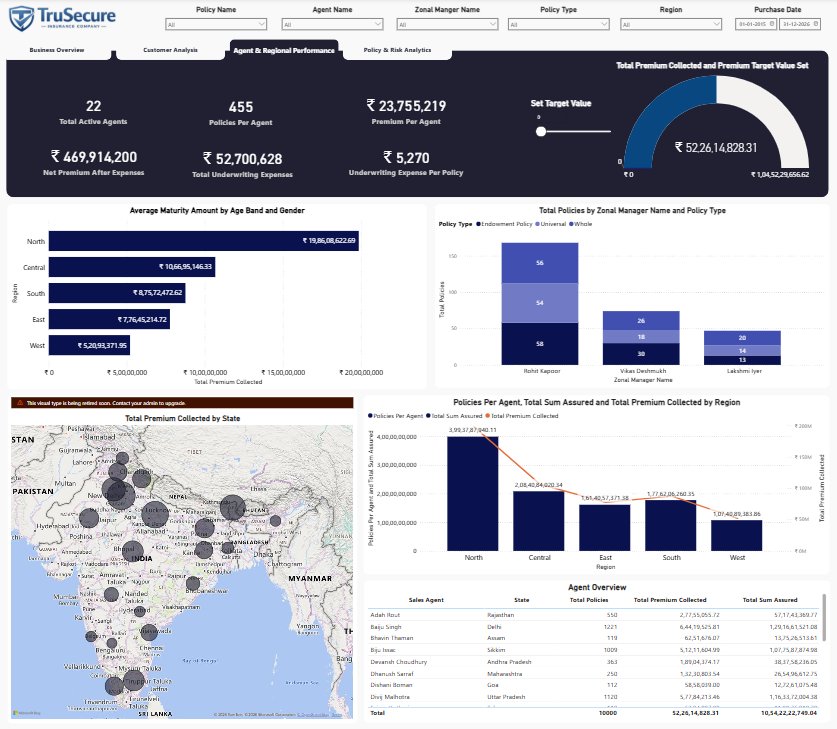

Layout of this report page (visuals, bound fields, positions):
{"tool":"powerbi","page":{"name":"Agent & Regional Performance","canvas":[1940,1700],"ordinal":2},"visuals":[{"type":"shape","box":[15.6,120.3,1906,340],"z":0},{"type":"columnChart","fields":{"Category":["DM Zonal_Manager.Zonal Manager Name"],"Y":["Measure.Total Policies"],"Series":["DM Policy_Type.Policy Type"]},"box":[1007.8,477.5,914.3,424.7],"z":1000},{"type":"map","fields":{"Category":["DM Insurance_Agent_Table.State"],"Size":["Measure.Total Premium Collected"]},"box":[16.3,920.4,810.7,759.9],"z":2000},{"type":"advanceCardE03760C5AB684758B56AA29F9E6C257B","fields":{"mainMeasure":["Measure 2.Net Premium After Expenses"]},"box":[62,319.7,365.8,119.3],"z":3000},{"type":"advanceCardE03760C5AB684758B56AA29F9E6C257B","fields":{"mainMeasure":["Measure 2.Underwriting Expense Per Policy"]},"box":[786.3,319,365.7,119.9],"z":4000},{"type":"advanceCardE03760C5AB684758B56AA29F9E6C257B","fields":{"mainMeasure":["Measure 2.Policies Per Agent"]},"box":[405.6,202,364.2,119.3],"z":5000},{"type":"advanceCardE03760C5AB684758B56AA29F9E6C257B","fields":{"mainMeasure":["Measure 2.Total Active Agents"]},"box":[63.6,200.4,364.2,119.3],"z":6000},{"type":"slicer","title":"Zonal Manger Name","fields":{"Values":["DM Zonal_Manager.Zonal Manager Name","FCT Insurance_Policy_Table.Policy Status"]},"box":[908.9,18,255,80.1],"z":7000},{"type":"slicer","title":"Region","fields":{"Values":["DM Regional_Manager.Region"]},"box":[1427,18,255,80.1],"z":8000},{"type":"slicer","title":"Purchase Date","fields":{"Values":["Calendar.Date"]},"box":[1693.1,17.8,222,70],"z":9000},{"type":"slicer","title":"Policy Type","fields":{"Values":["FCT Insurance_Policy_Table.Tenure Band"]},"box":[1167.1,18,255,80.1],"z":10000},{"type":"pageNavigator","box":[5.7,96.6,1045.4,48.3],"z":11000},{"type":"image","box":[0,0,288,88],"z":12000},{"type":"tableEx","title":"Agent Overview","fields":{"Values":["DM Insurance_Agent_Table.Sales Agent","DM Insurance_Agent_Table.State","Measure.Total Policies","Measure.Total Premium Collected","Measure.Total Sum Assured"]},"box":[843.2,1351.2,1080.9,329.2],"z":13000},{"type":"clusteredBarChart","title":"Average Maturity Amount by Age Band and Gender","fields":{"Category":["DM Regional_Manager.Region"],"Y":["Measure.Total Premium Collected"]},"box":[16.3,477.5,971.2,428.7],"z":14000},{"type":"slicer","title":"Policy Name","fields":{"Values":["DM Policy_Protection_Plan.Policy Name"]},"box":[372.7,18,255,80.1],"z":15000},{"type":"slicer","title":"Agent Name","fields":{"Values":["DM Insurance_Agent_Table.Sales Agent"]},"box":[642.4,18,255,80.1],"z":16000},{"type":"advanceCardE03760C5AB684758B56AA29F9E6C257B","fields":{"mainMeasure":["Measure 2.Total Underwriting Expenses"]},"box":[406.4,321,365.7,119.9],"z":17000},{"type":"advanceCardE03760C5AB684758B56AA29F9E6C257B","fields":{"mainMeasure":["Measure 2.Premium Per Agent"]},"box":[786.3,201.2,365.7,119.9],"z":18000},{"type":"gauge","fields":{"Y":["Measure.Total Premium Collected"]},"box":[1322.7,176.8,436.8,264.1],"z":19000},{"type":"lineStackedColumnComboChart","fields":{"Y":["Measure 2.Policies Per Agent","Measure.Total Sum Assured"],"Category":["DM Regional_Manager.Region"],"Y2":["Measure.Total Premium Collected"]},"box":[843.2,920.4,1078.9,414.5],"z":20000}]}

Visuals, with their boxes in screenshot pixels (x1, y1, x2, y2), scaled from the page's 1940x1700 canvas onto the 837x729 screenshot:
shape: x1=7 y1=52 x2=829 y2=197
columnChart - DM Zonal_Manager.Zonal Manager Name x Measure.Total Policies: x1=435 y1=205 x2=829 y2=387
map - DM Insurance_Agent_Table.State x Measure.Total Premium Collected: x1=7 y1=395 x2=357 y2=721
advanceCardE03760C5AB684758B56AA29F9E6C257B - Measure 2.Net Premium After Expenses: x1=27 y1=137 x2=185 y2=188
advanceCardE03760C5AB684758B56AA29F9E6C257B - Measure 2.Underwriting Expense Per Policy: x1=339 y1=137 x2=497 y2=188
advanceCardE03760C5AB684758B56AA29F9E6C257B - Measure 2.Policies Per Agent: x1=175 y1=87 x2=332 y2=138
advanceCardE03760C5AB684758B56AA29F9E6C257B - Measure 2.Total Active Agents: x1=27 y1=86 x2=185 y2=137
"Zonal Manger Name" slicer: x1=392 y1=8 x2=502 y2=42
"Region" slicer: x1=616 y1=8 x2=726 y2=42
"Purchase Date" slicer: x1=730 y1=8 x2=826 y2=38
"Policy Type" slicer: x1=504 y1=8 x2=614 y2=42
pageNavigator: x1=2 y1=41 x2=453 y2=62
image: x1=0 y1=0 x2=124 y2=38
"Agent Overview" tableEx: x1=364 y1=579 x2=830 y2=721
"Average Maturity Amount by Age Band and Gender" clusteredBarChart: x1=7 y1=205 x2=426 y2=389
"Policy Name" slicer: x1=161 y1=8 x2=271 y2=42
"Agent Name" slicer: x1=277 y1=8 x2=387 y2=42
advanceCardE03760C5AB684758B56AA29F9E6C257B - Measure 2.Total Underwriting Expenses: x1=175 y1=138 x2=333 y2=189
advanceCardE03760C5AB684758B56AA29F9E6C257B - Measure 2.Premium Per Agent: x1=339 y1=86 x2=497 y2=138
gauge - Measure.Total Premium Collected: x1=571 y1=76 x2=759 y2=189
lineStackedColumnComboChart - Measure 2.Policies Per Agent x Measure.Total Sum Assured: x1=364 y1=395 x2=829 y2=572
